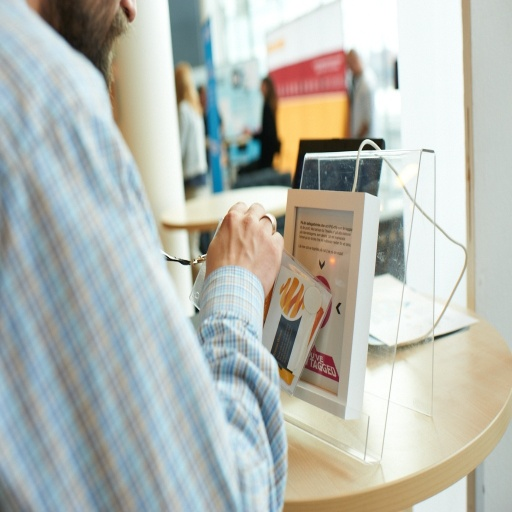hand: (194, 199, 291, 309)
